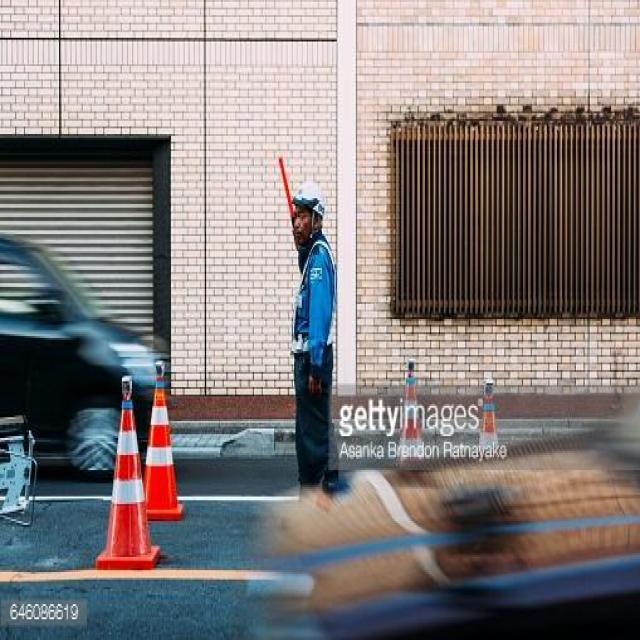Cone: (95, 376, 158, 568), (144, 374, 182, 519)
No glasses: (289, 206, 311, 220)
